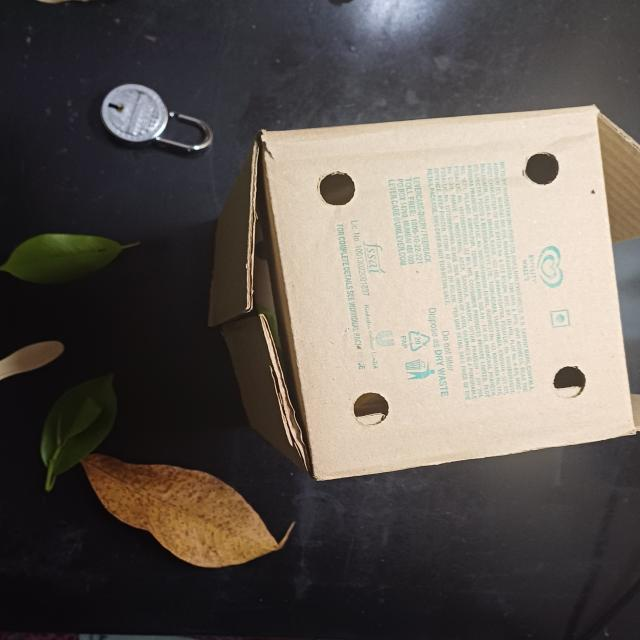CardBoard-Bio: (205, 99, 640, 485)
Leaf-Bio: (76, 450, 299, 572), (40, 360, 121, 496), (1, 229, 142, 290)
Steel-NonBio: (98, 79, 215, 156)
Wooden Spoon-Bio: (0, 333, 66, 384)
